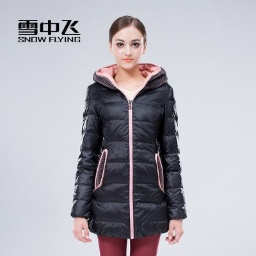face: (108, 15, 149, 70)
